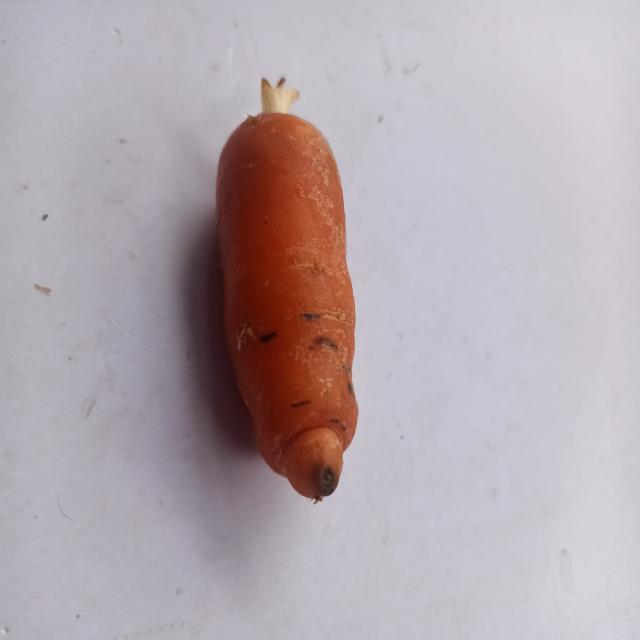Carrot: (205, 37, 414, 527)
